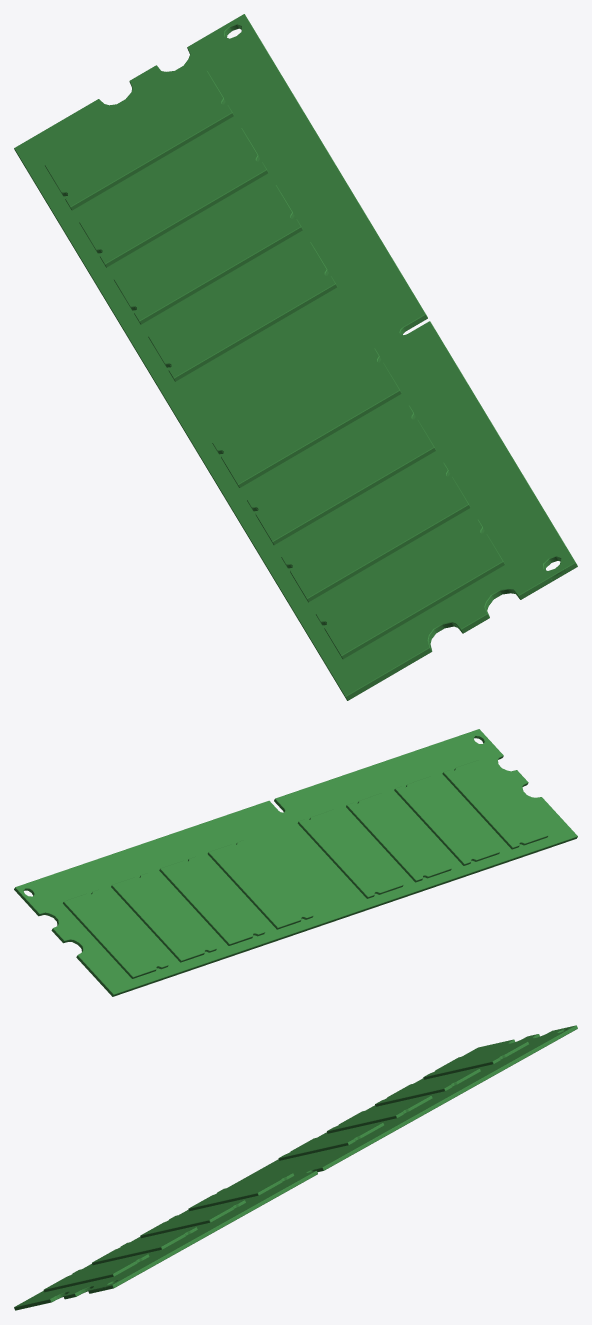
Rendered from RAM.fbx.
3 renders of one model, top to bottom at view 1: azimuth 30°, elevation 25°; view 2: azimuth 150°, elevation 25°; view 3: azimuth 330°, elevation 25°, orthographic. The views are drawn at different scales.
Visible parts, largest first — view 1: RAM.002; view 2: RAM.002; view 3: RAM.002.
Boxes of the visible parts, bbox=[...] form: RAM.002: bbox=[14, 14, 577, 700]; RAM.002: bbox=[14, 729, 577, 996]; RAM.002: bbox=[14, 1025, 577, 1310].
Bounding box in the file's own units: 226 × 101 × 540.
